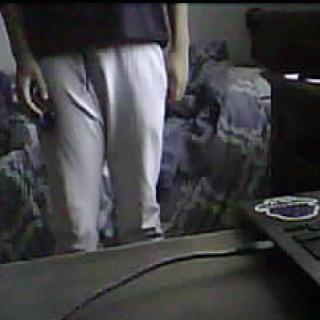White Sweatpants: (25, 50, 183, 255)
